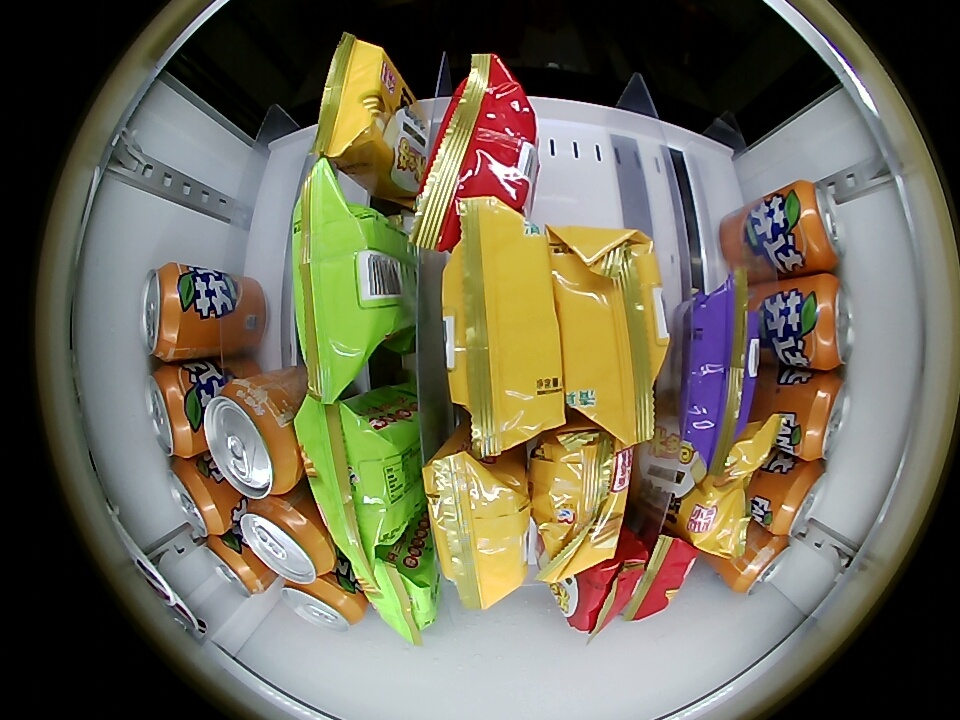fenda: (204, 375, 304, 499), (240, 495, 335, 584), (141, 263, 194, 362), (789, 181, 846, 270), (145, 366, 199, 457), (168, 457, 227, 538), (282, 575, 363, 632), (807, 275, 856, 369), (771, 461, 828, 539), (799, 374, 850, 461), (205, 534, 268, 597), (732, 534, 791, 595)
kaomo_gali: (443, 213, 571, 445), (547, 227, 664, 439), (316, 39, 431, 199), (424, 438, 531, 603), (642, 424, 760, 555), (532, 427, 634, 574)
kaomo_jiaoyan: (674, 292, 759, 454)
kaomo_shaokao: (414, 63, 539, 246), (577, 524, 646, 629), (625, 538, 700, 622)
kaomo_xiangcon: (291, 188, 414, 382), (301, 386, 424, 555), (353, 532, 440, 636)
